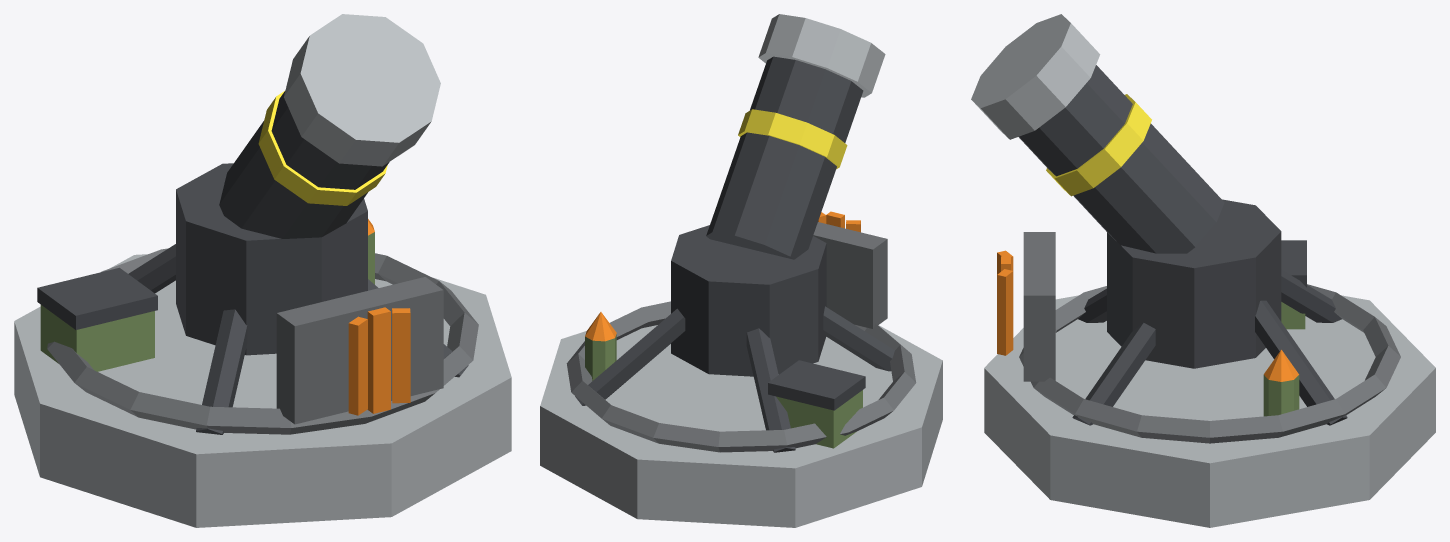
Rendered from TD_MortarTower_T2.fbx.
The picture shows the model from 3 angles, left to right: view 1: azimuth 30°, elevation 25°; view 2: azimuth 150°, elevation 25°; view 3: azimuth 270°, elevation 25°; orthographic projection. The views are drawn at different scales.
Visible parts, largest first — view 1: TD_MortarTower_T2_Base, TD_MortarTower_T2_BarrelSupport, TD_MortarTower_T2_MuzzleRing, TD_MortarTower_T2_FrontArmorPlate, TD_MortarTower_T2_DarkBaseBrace, TD_MortarTower_T2_MortarBarrel, TD_MortarTower_T2_AmmoBox_Left_Lid, TD_MortarTower_T2_AmmoBox_Left, TD_MortarTower_T2_Leg_03, TD_MortarTower_T2_YellowBarrelRing, TD_MortarTower_T2_ExplosionMark_Vertical, TD_MortarTower_T2_ExplosionMark_DiagonalA (+2 smaller); view 2: TD_MortarTower_T2_Base, TD_MortarTower_T2_BarrelSupport, TD_MortarTower_T2_MortarBarrel, TD_MortarTower_T2_DarkBaseBrace, TD_MortarTower_T2_FrontArmorPlate, TD_MortarTower_T2_MuzzleRing, TD_MortarTower_T2_AmmoBox_Left_Lid, TD_MortarTower_T2_YellowBarrelRing, TD_MortarTower_T2_Leg_01, TD_MortarTower_T2_Leg_02, TD_MortarTower_T2_AmmoBox_Left, TD_MortarTower_T2_Leg_03 (+2 smaller); view 3: TD_MortarTower_T2_Base, TD_MortarTower_T2_BarrelSupport, TD_MortarTower_T2_MortarBarrel, TD_MortarTower_T2_DarkBaseBrace, TD_MortarTower_T2_MuzzleRing, TD_MortarTower_T2_FrontArmorPlate, TD_MortarTower_T2_YellowBarrelRing, TD_MortarTower_T2_Leg_01, TD_MortarTower_T2_Leg_04, TD_MortarTower_T2_Leg_02, TD_MortarTower_T2_ExplosionMark_DiagonalB, TD_MortarTower_T2_MortarShell_Right_Body (+3 smaller).
Boxes of the visible parts, x1,y1,x2,y2 form: TD_MortarTower_T2_Base: [14, 254, 511, 527]; TD_MortarTower_T2_BarrelSupport: [176, 163, 367, 355]; TD_MortarTower_T2_MuzzleRing: [284, 14, 440, 166]; TD_MortarTower_T2_FrontArmorPlate: [276, 277, 443, 424]; TD_MortarTower_T2_DarkBaseBrace: [47, 248, 478, 434]; TD_MortarTower_T2_MortarBarrel: [219, 91, 389, 238]; TD_MortarTower_T2_AmmoBox_Left_Lid: [37, 267, 157, 329]; TD_MortarTower_T2_AmmoBox_Left: [40, 305, 154, 371]; TD_MortarTower_T2_Leg_03: [196, 309, 247, 434]; TD_MortarTower_T2_YellowBarrelRing: [258, 91, 387, 205]; TD_MortarTower_T2_ExplosionMark_Vertical: [367, 307, 390, 413]; TD_MortarTower_T2_ExplosionMark_DiagonalA: [348, 316, 367, 415]; TD_MortarTower_T2_Base: [540, 325, 942, 527]; TD_MortarTower_T2_BarrelSupport: [671, 225, 826, 376]; TD_MortarTower_T2_MortarBarrel: [706, 56, 863, 259]; TD_MortarTower_T2_DarkBaseBrace: [566, 301, 916, 452]; TD_MortarTower_T2_FrontArmorPlate: [813, 222, 887, 328]; TD_MortarTower_T2_MuzzleRing: [758, 14, 885, 97]; TD_MortarTower_T2_AmmoBox_Left_Lid: [768, 360, 865, 410]; TD_MortarTower_T2_YellowBarrelRing: [738, 109, 847, 169]; TD_MortarTower_T2_Leg_01: [575, 308, 685, 405]; TD_MortarTower_T2_Leg_02: [746, 328, 795, 452]; TD_MortarTower_T2_AmmoBox_Left: [776, 390, 862, 448]; TD_MortarTower_T2_Leg_03: [823, 306, 894, 371]; TD_MortarTower_T2_Base: [984, 295, 1435, 527]; TD_MortarTower_T2_BarrelSupport: [1107, 199, 1281, 368]; TD_MortarTower_T2_MortarBarrel: [1018, 65, 1224, 253]; TD_MortarTower_T2_DarkBaseBrace: [1019, 284, 1400, 443]; TD_MortarTower_T2_MuzzleRing: [971, 14, 1100, 139]; TD_MortarTower_T2_FrontArmorPlate: [1023, 232, 1055, 381]; TD_MortarTower_T2_YellowBarrelRing: [1046, 94, 1151, 196]; TD_MortarTower_T2_Leg_01: [1255, 300, 1347, 425]; TD_MortarTower_T2_Leg_04: [1072, 323, 1155, 425]; TD_MortarTower_T2_Leg_02: [1281, 270, 1341, 322]; TD_MortarTower_T2_ExplosionMark_DiagonalB: [997, 269, 1013, 355]; TD_MortarTower_T2_MortarShell_Right_Body: [1263, 375, 1299, 416].
Size of the model in its own units: 1.14 by 1.14 by 1.17.
